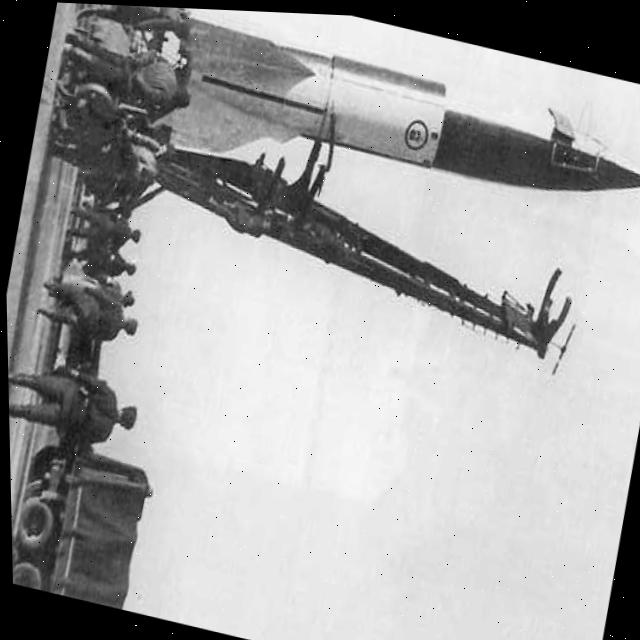missile: (150, 8, 640, 252)
